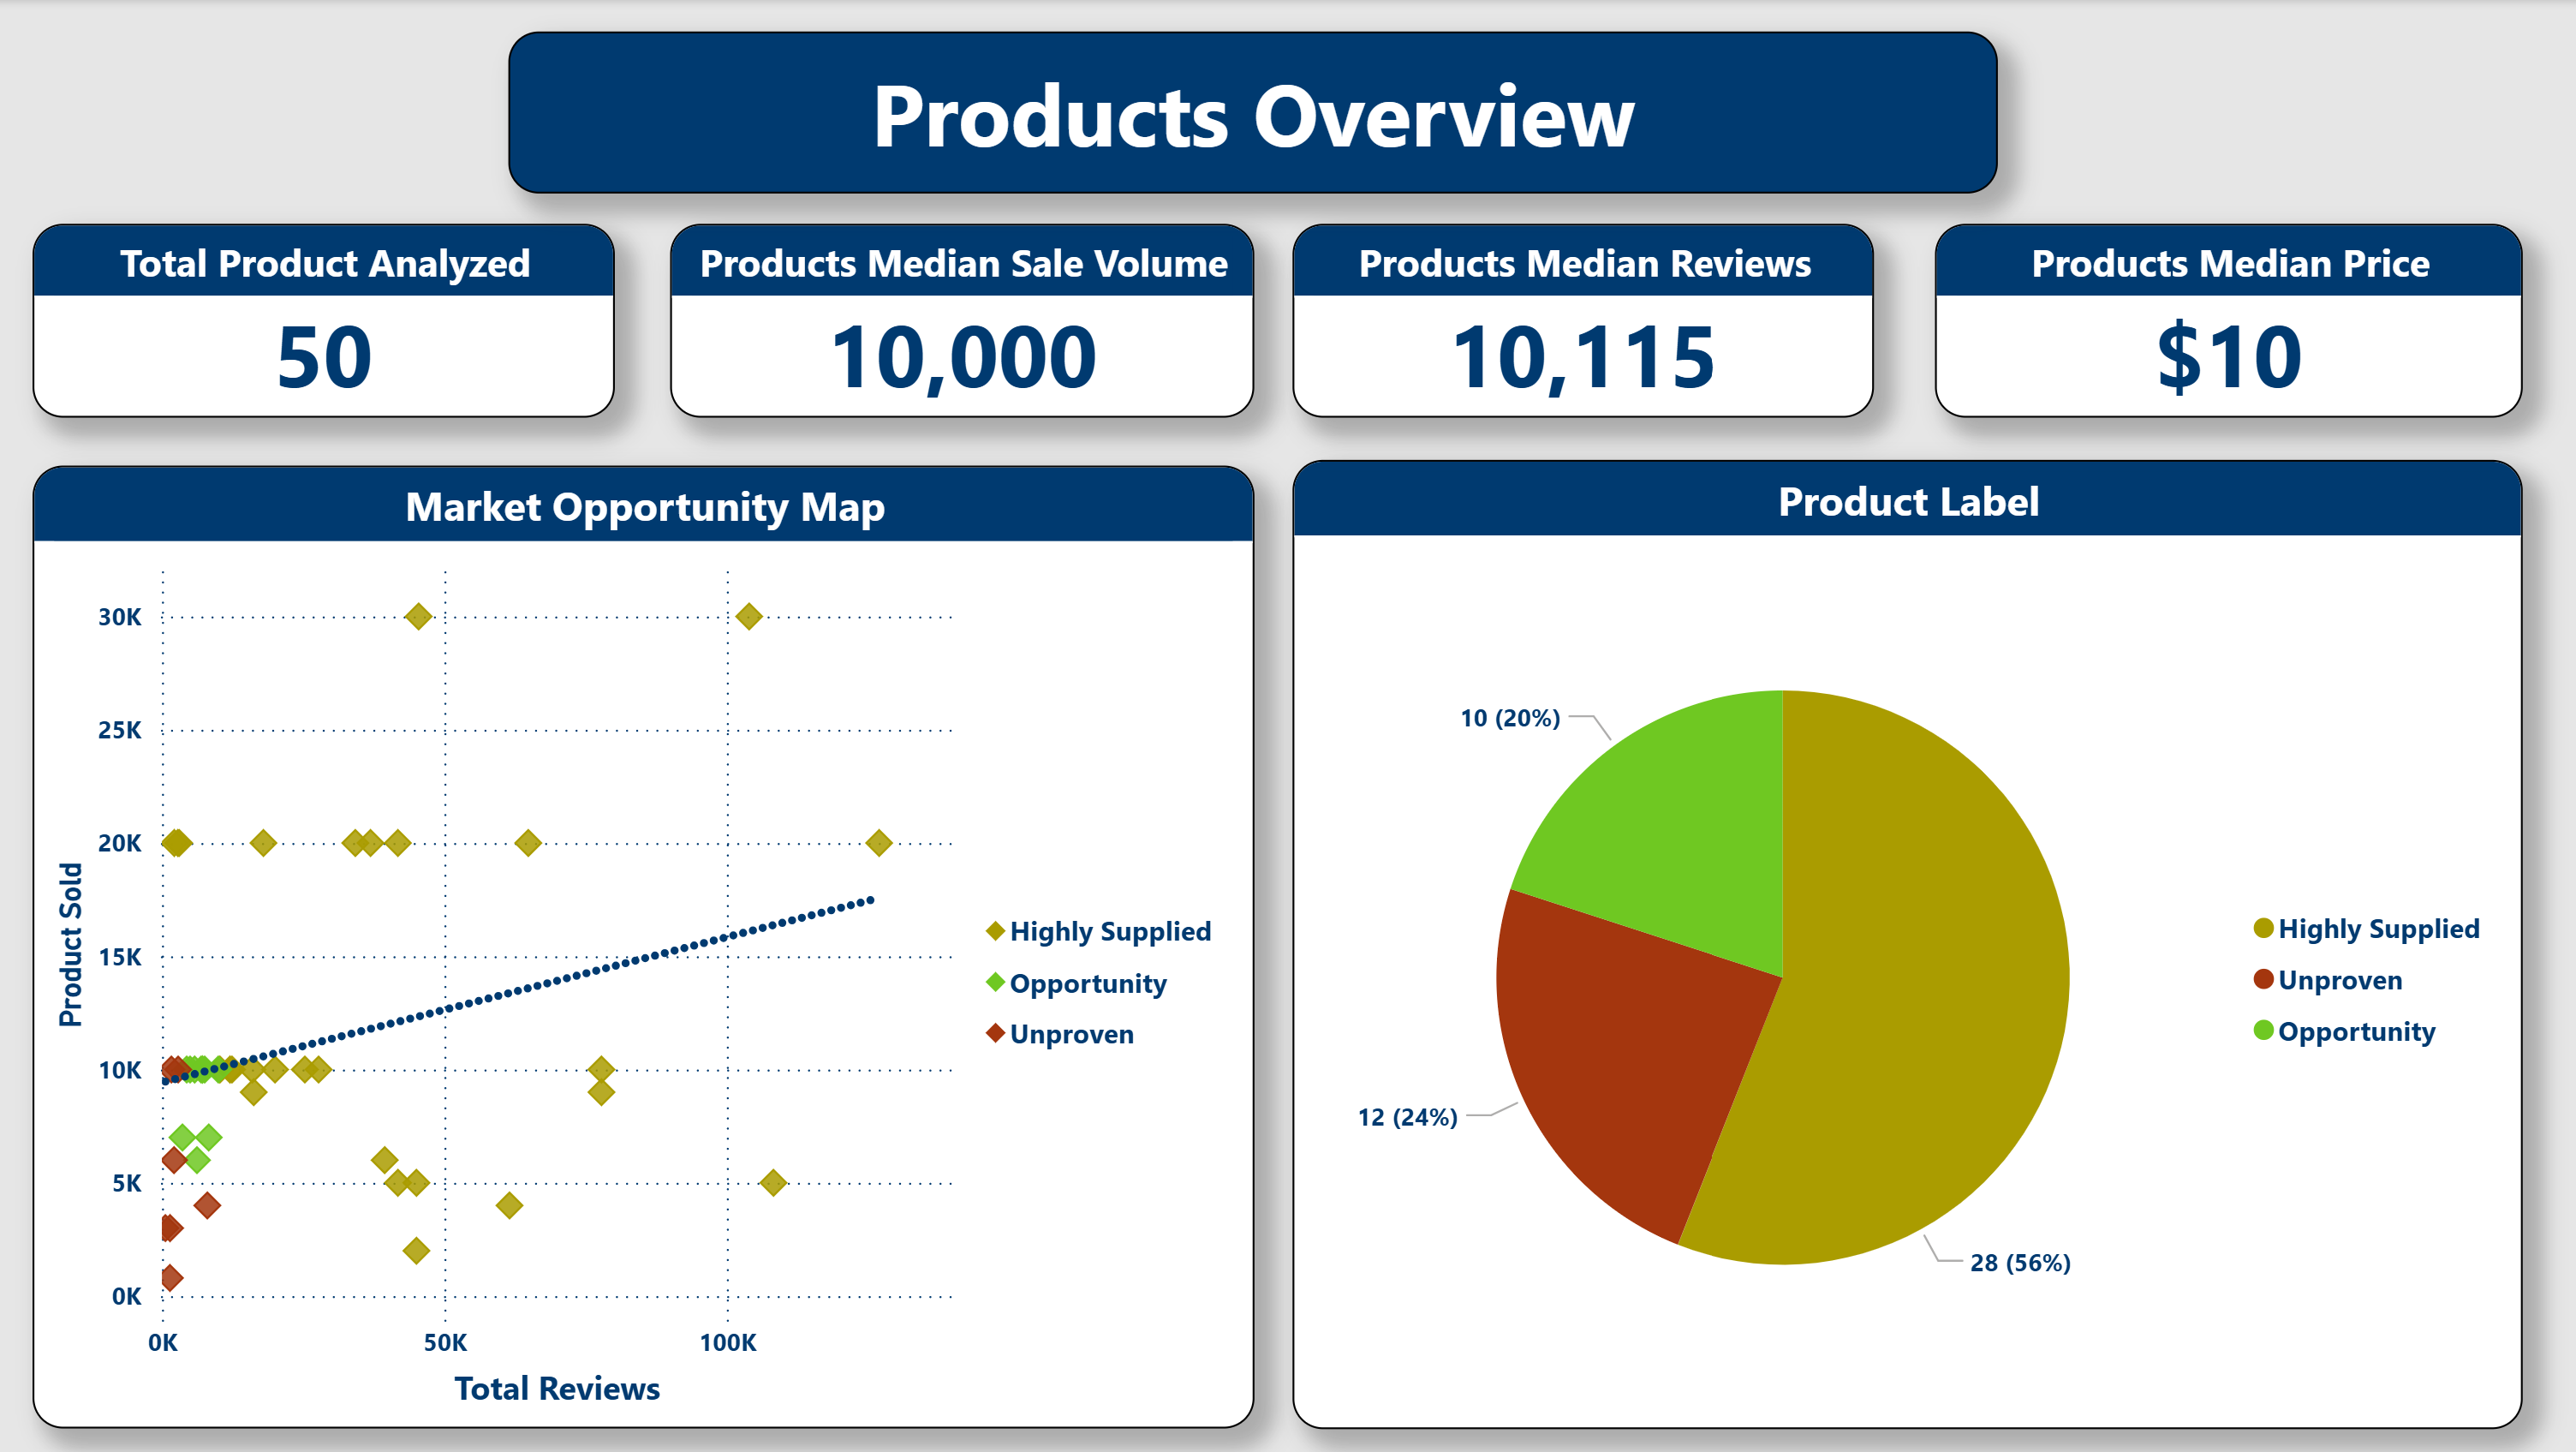

The dashboard page shown, as its layout file describes it:
{"tool":"powerbi","page":{"name":"Overview","canvas":[1280,720],"ordinal":0},"visuals":[{"type":"card","title":"Total Product Analyzed","fields":{"Values":["Count(MART_AMAZON__PRODUCT_ANALYSIS.ASIN)"]},"box":[16.9,111.1,288,96],"z":0},{"type":"card","title":"Products Median Sale Volume","fields":{"Values":["Median(MART_AMAZON__PRODUCT_ANALYSIS.SALES_VOLUME)"]},"box":[332.3,111.1,289,96],"z":1000},{"type":"card","title":"Products Median Reviews","fields":{"Values":["Median(MART_AMAZON__PRODUCT_ANALYSIS.NUM_RATING)"]},"box":[640,111.1,288,96],"z":2000},{"type":"card","title":"Products Median Price","fields":{"Values":["Median(MART_AMAZON__PRODUCT_ANALYSIS.PRODUCT_PRICE)"]},"box":[958.2,111.1,290.8,96],"z":3000},{"type":"textbox","title":"Page 1 Tittle","box":[252.3,16,737,80],"z":4000},{"type":"scatterChart","title":"Market Opportunity Map","fields":{"X":["MART_AMAZON__PRODUCT_ANALYSIS.NUM_RATING"],"Y":["MART_AMAZON__PRODUCT_ANALYSIS.SALES_VOLUME"],"Series":["MART_AMAZON__PRODUCT_ANALYSIS.Product_Label"]},"box":[16.9,230.6,604.3,476.3],"z":5000},{"type":"pieChart","title":"Product Label","fields":{"Category":["MART_AMAZON__PRODUCT_ANALYSIS.Product_Status"],"Y":["CountNonNull(MART_AMAZON__PRODUCT_ANALYSIS.ASIN)"]},"box":[640,227.8,609,479.1],"z":7000}]}

Visuals, with their boxes in screenshot pixels (x1, y1, x2, y2), scaled from the page's 1280x720 canvas onto the 2576x1452 screenshot:
"Total Product Analyzed" card: region(34, 224, 614, 418)
"Products Median Sale Volume" card: region(669, 224, 1250, 418)
"Products Median Reviews" card: region(1288, 224, 1868, 418)
"Products Median Price" card: region(1929, 224, 2513, 418)
"Page 1 Tittle" textbox: region(508, 33, 1991, 194)
"Market Opportunity Map" scatterChart: region(34, 465, 1250, 1425)
"Product Label" pieChart: region(1288, 459, 2513, 1425)
